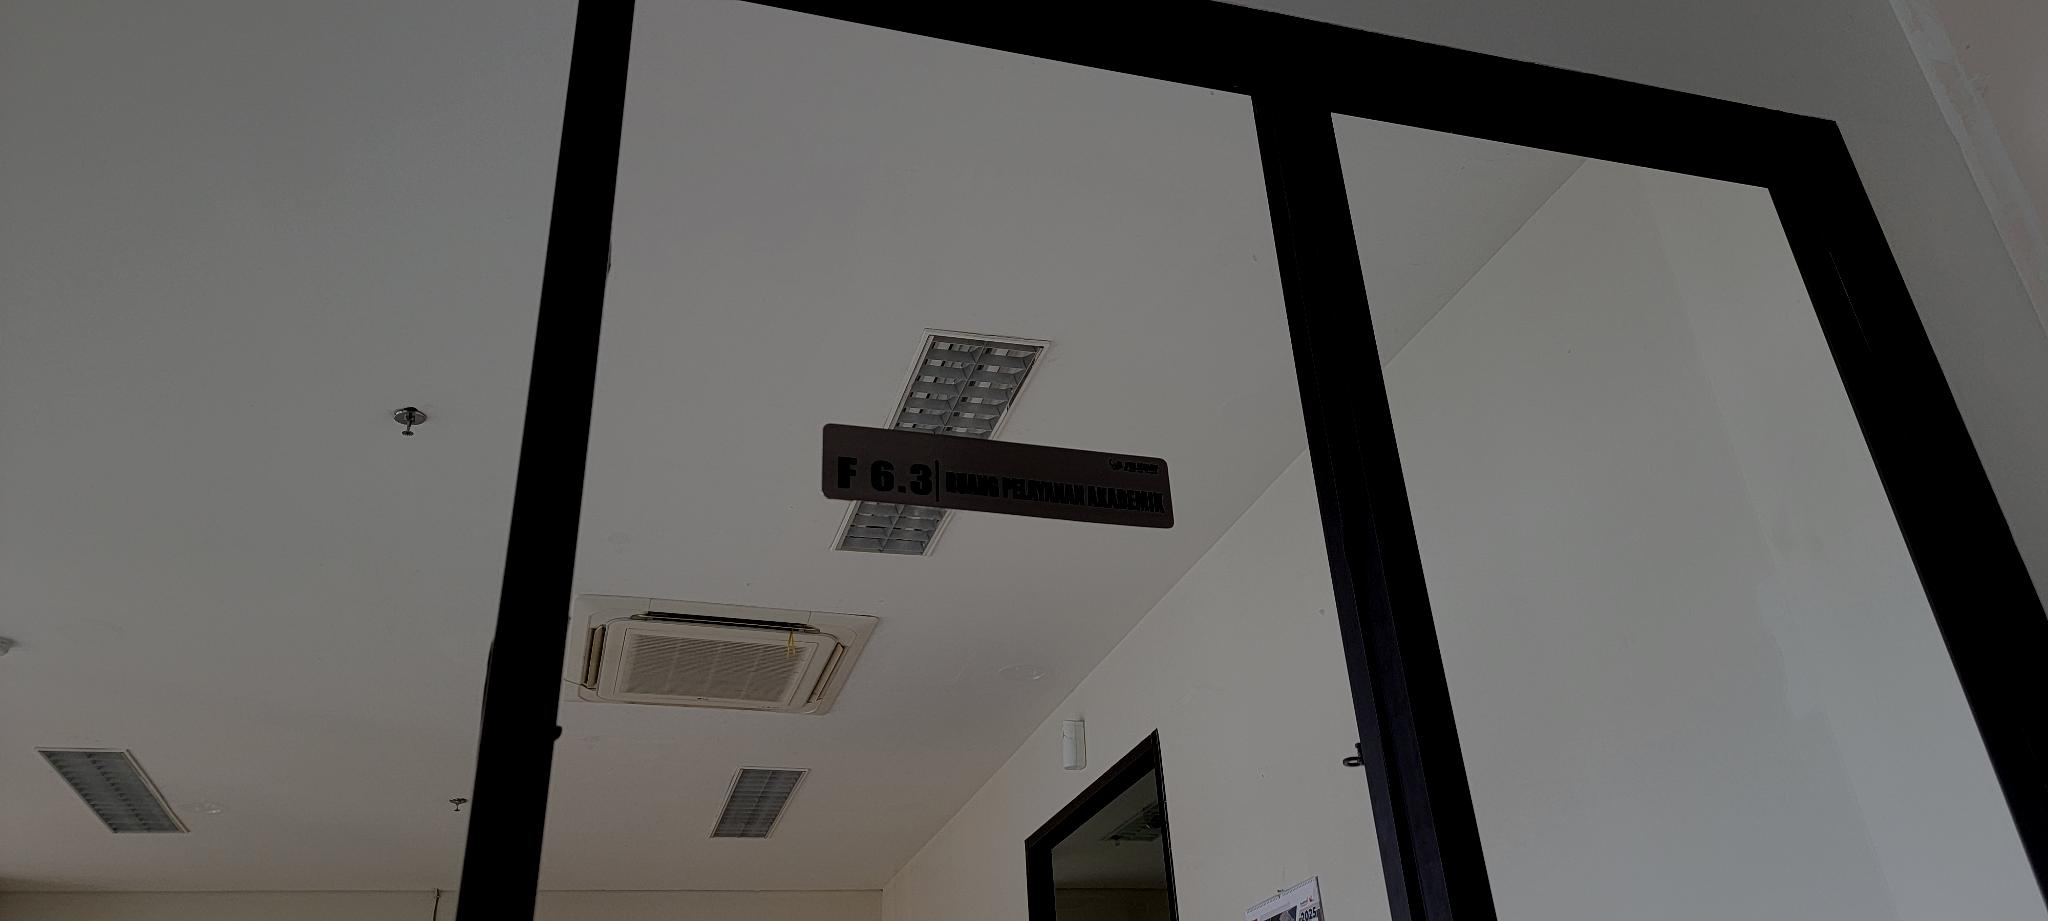plate: (823, 423, 1174, 529)
